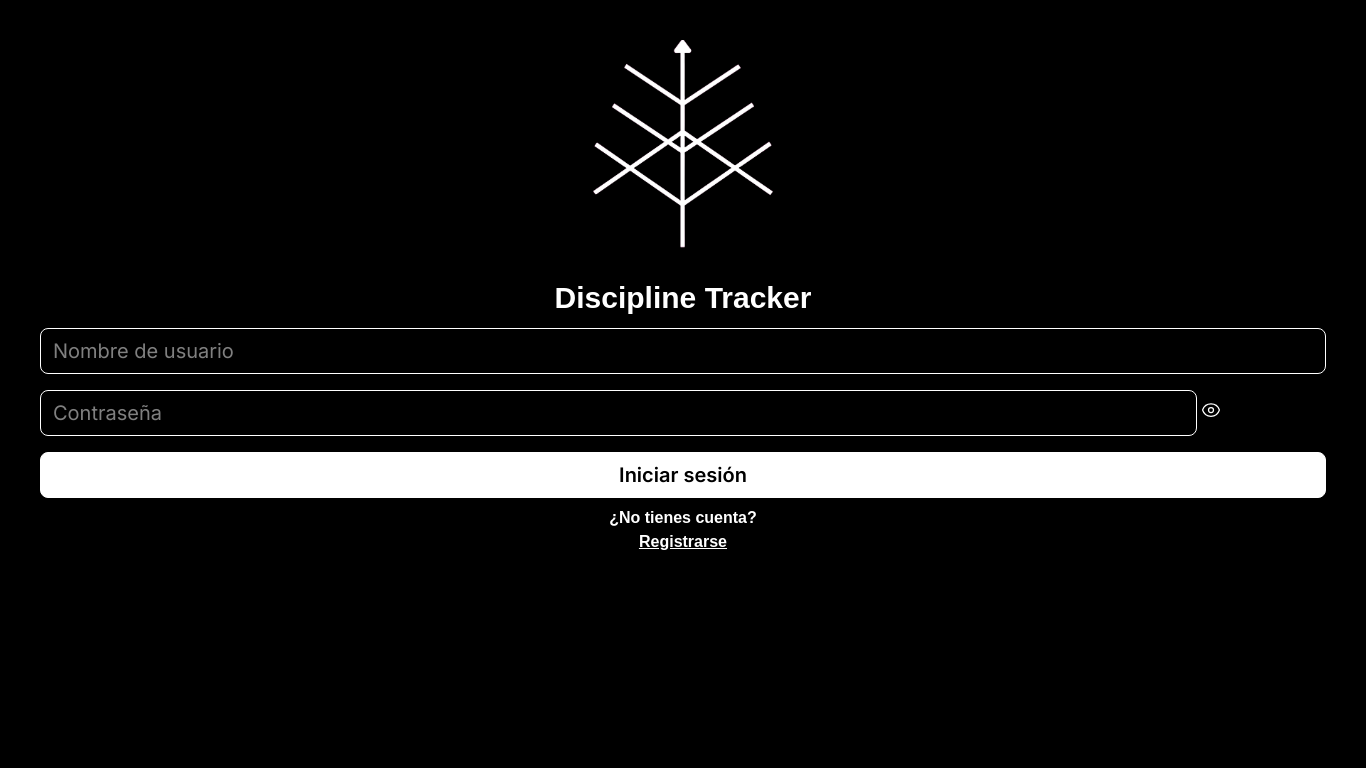
it: Login › muestra un error de servidor genérico cuando no hay errores de campo
Click the button "Iniciar sesión": x=683, y=475 [40,452,1326,498]
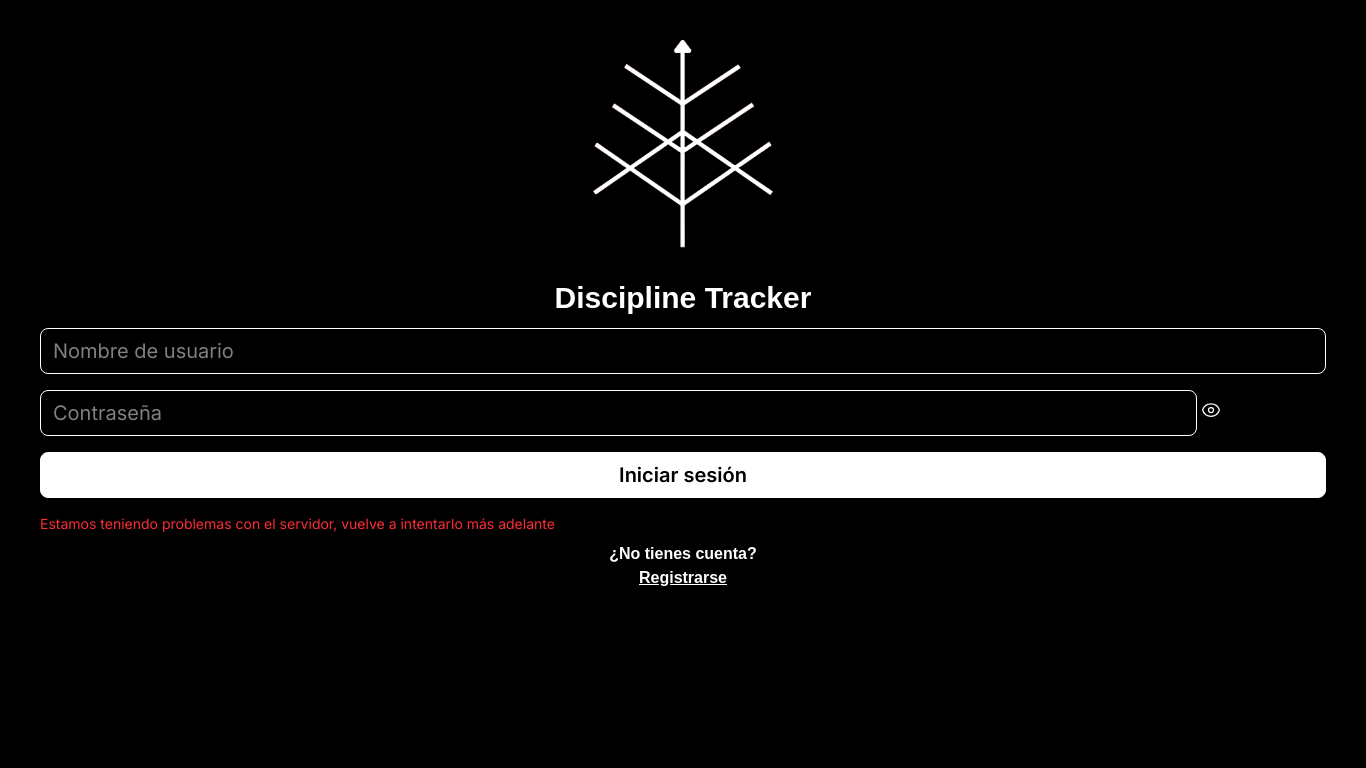
Check: the text "Estamos teniendo problemas con el servidor, vuelve a intentarlo más adelante" is shown, box [40,515,555,532]
